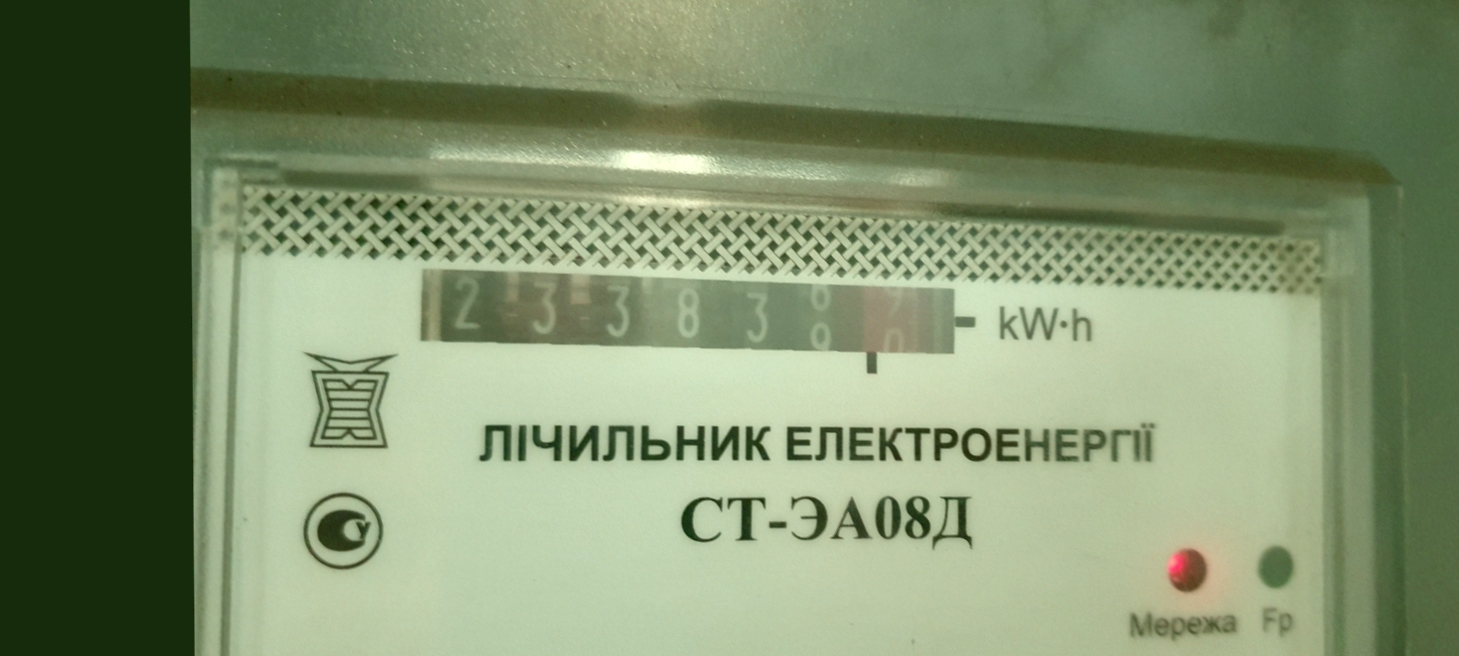0: (879, 325, 906, 359)
2: (447, 272, 486, 333)
3: (598, 279, 634, 342), (742, 287, 771, 344), (529, 278, 557, 336)
8: (670, 283, 704, 341), (807, 280, 834, 312)
9: (877, 282, 908, 320), (806, 319, 834, 355)
screen: (390, 243, 984, 403)
